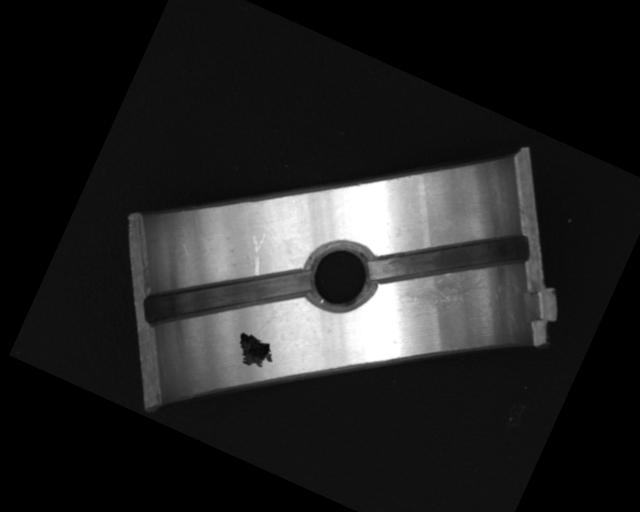blot: (230, 330, 279, 374)
gap: (139, 216, 313, 375), (366, 183, 537, 332)
hole: (295, 228, 387, 323)
nick: (237, 229, 275, 278)
scratch: (399, 246, 493, 330)
